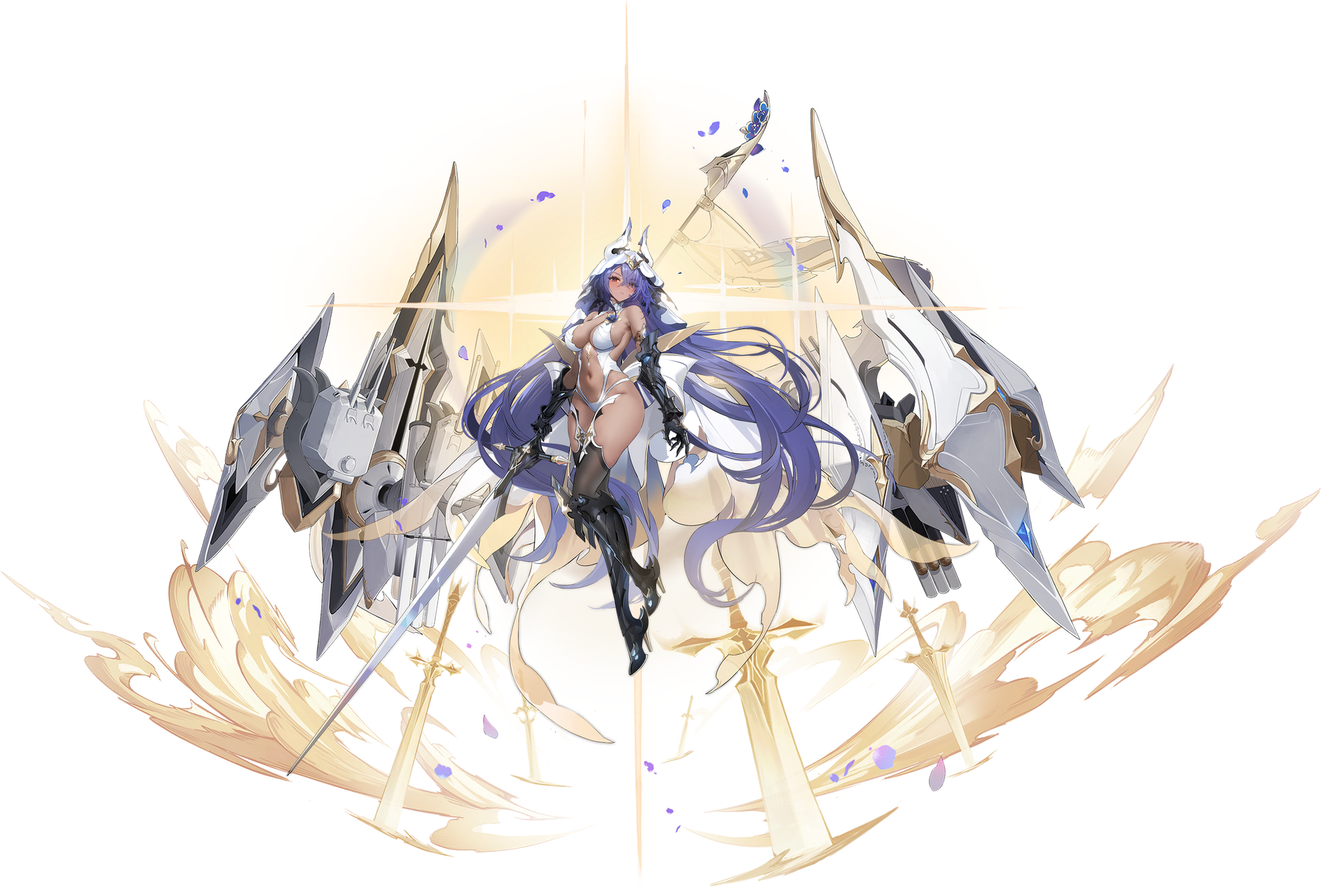person: (426, 205, 817, 890)
